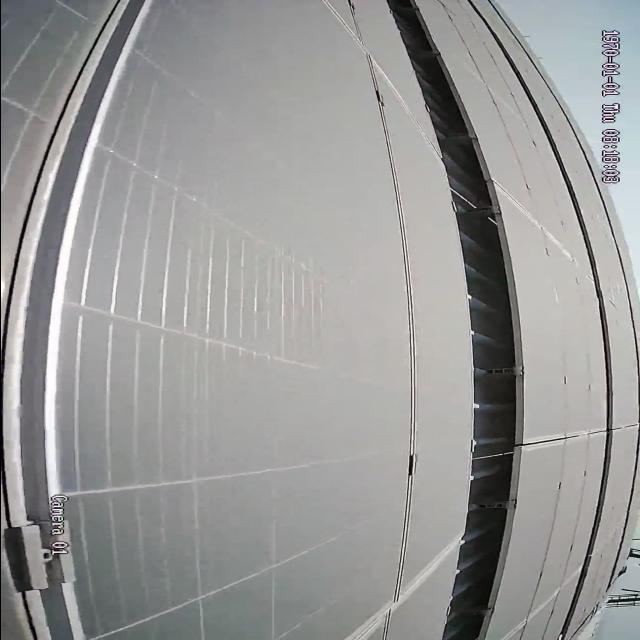interior panel: (0, 2, 153, 639), (352, 544, 440, 639), (540, 431, 598, 447)
outher panel: (380, 1, 524, 636)
